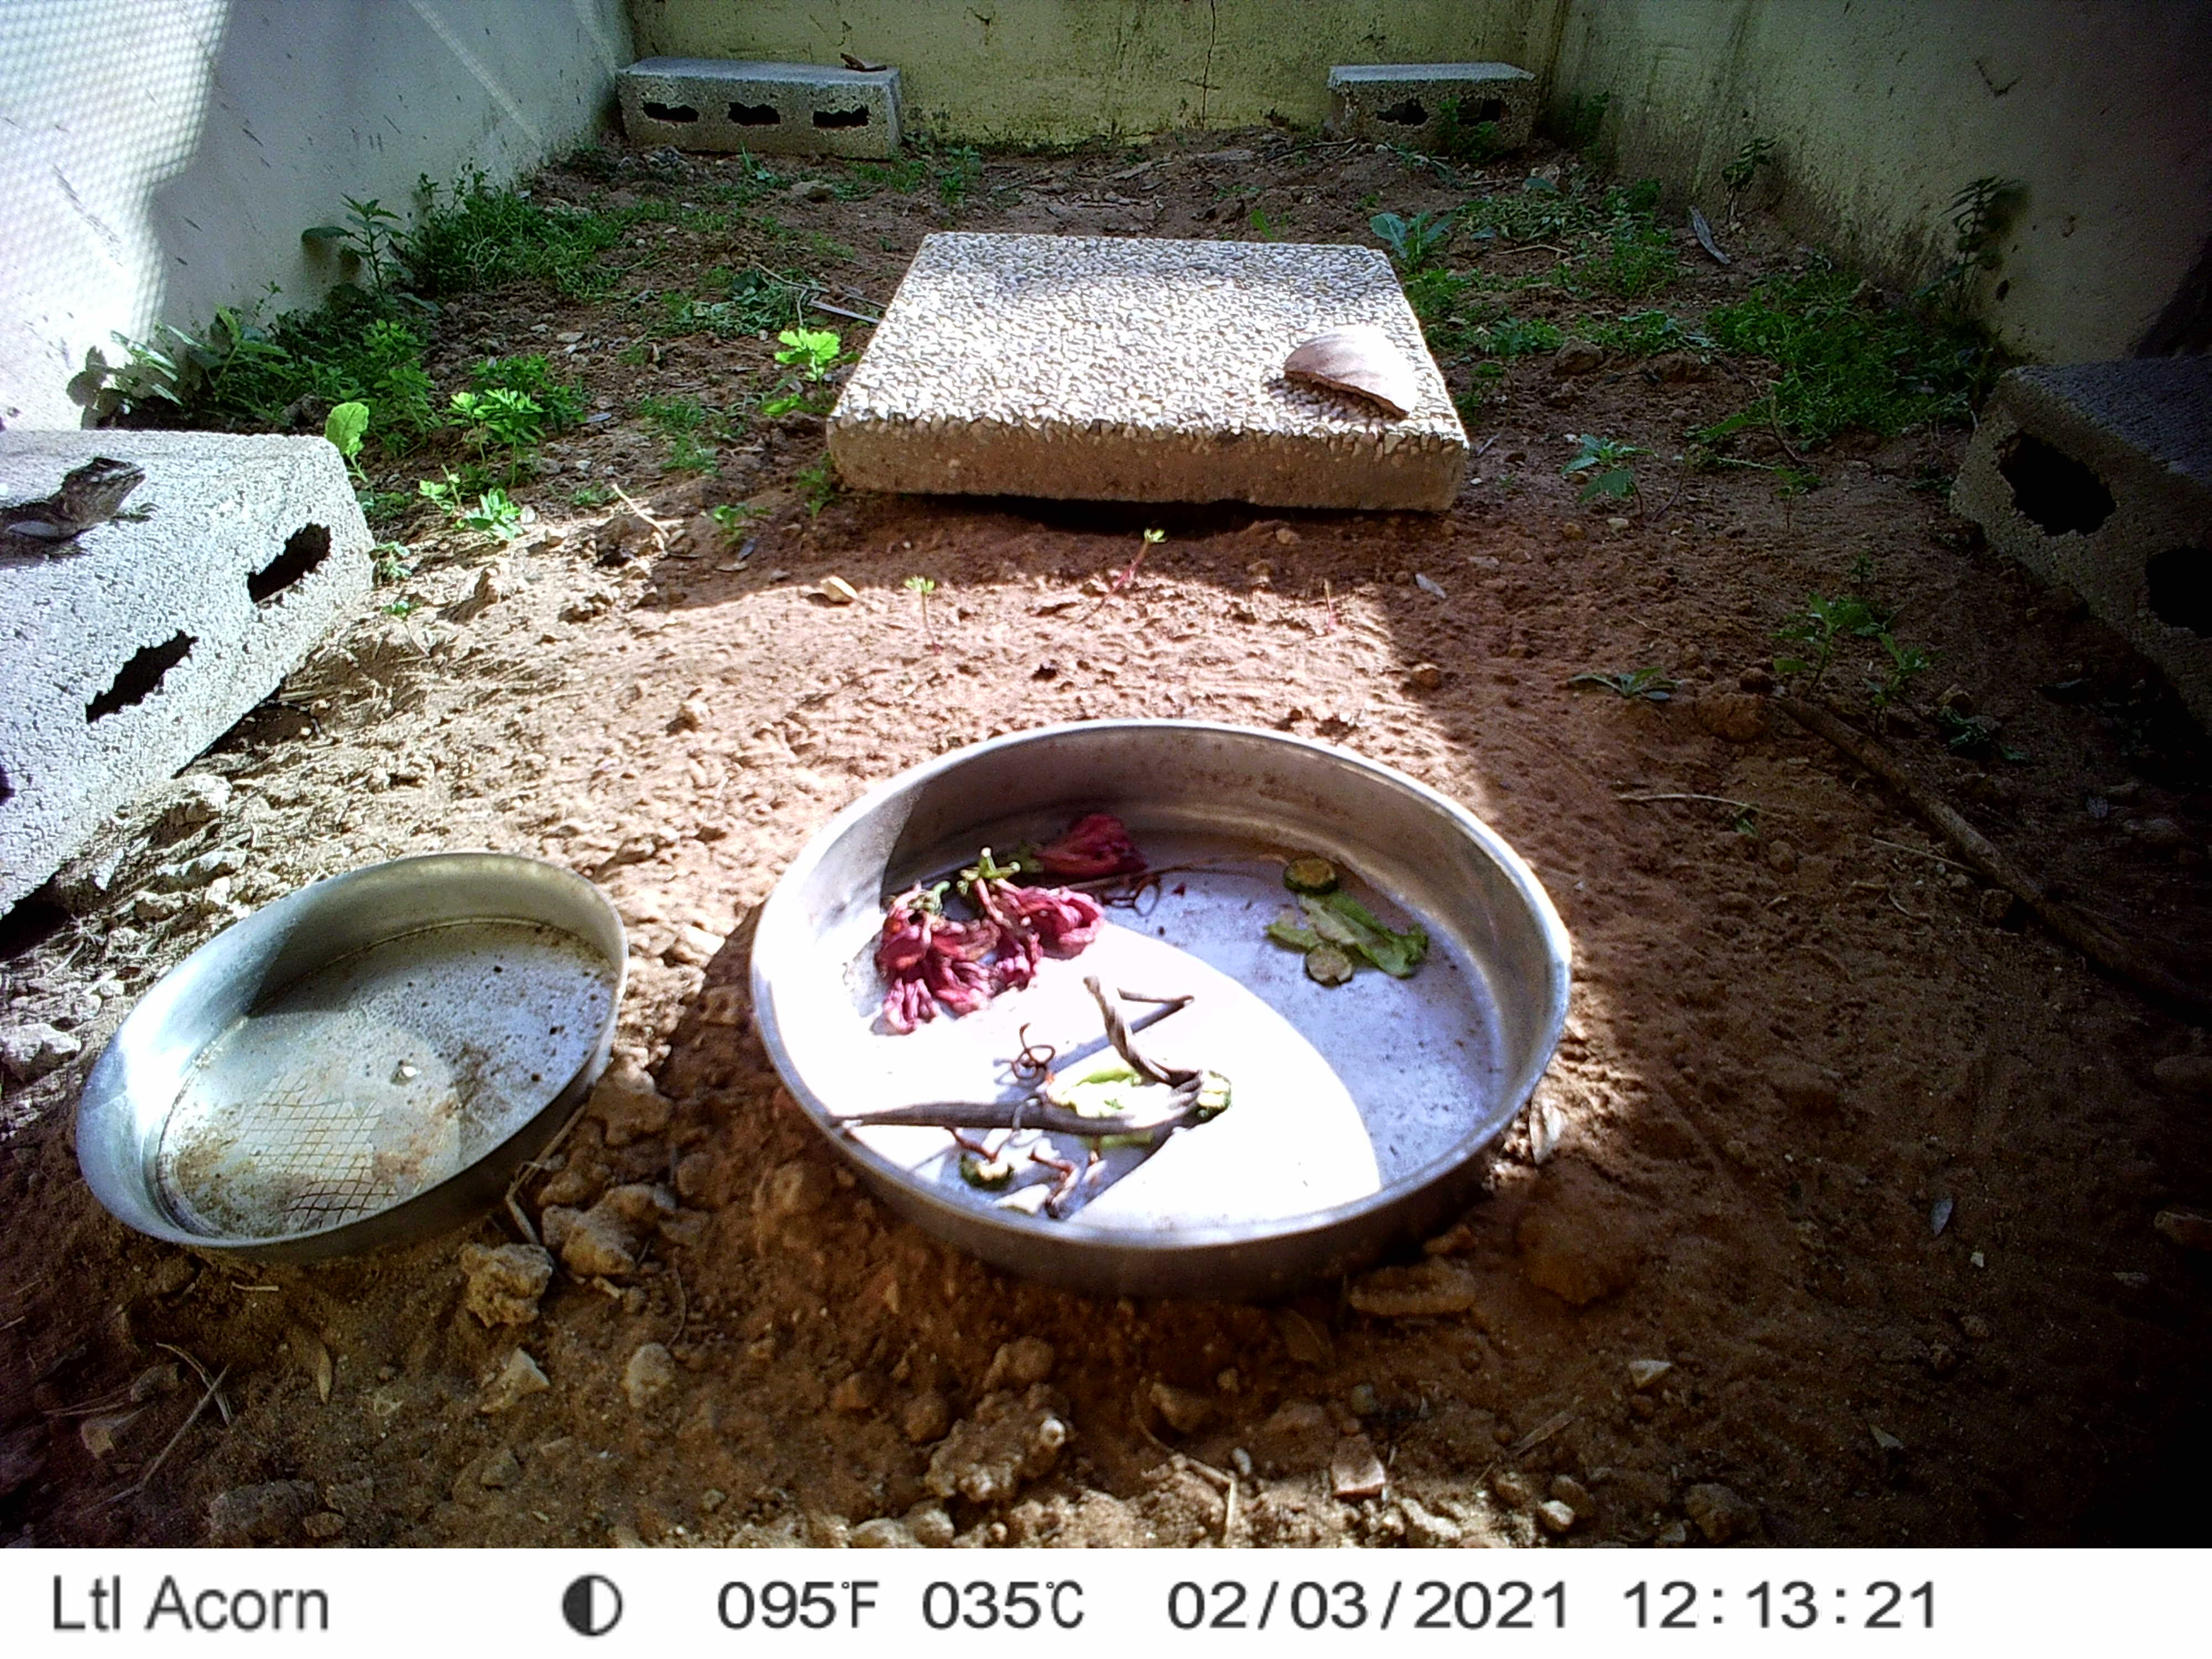lizard: (0, 457, 165, 559)
